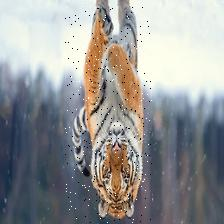tiger: (64, 5, 151, 222)
